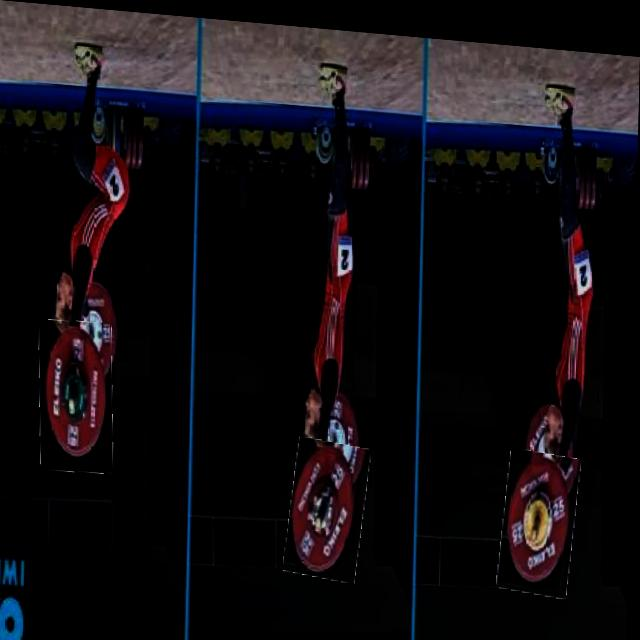barbell: (40, 318, 117, 474), (502, 439, 581, 588), (289, 432, 370, 577)
